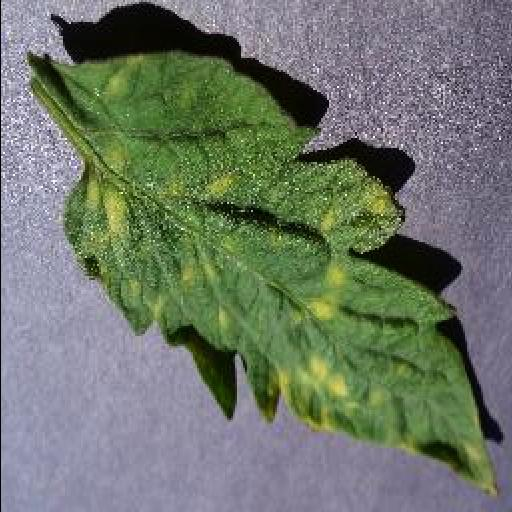disease_tomato: (62, 48, 494, 496)
